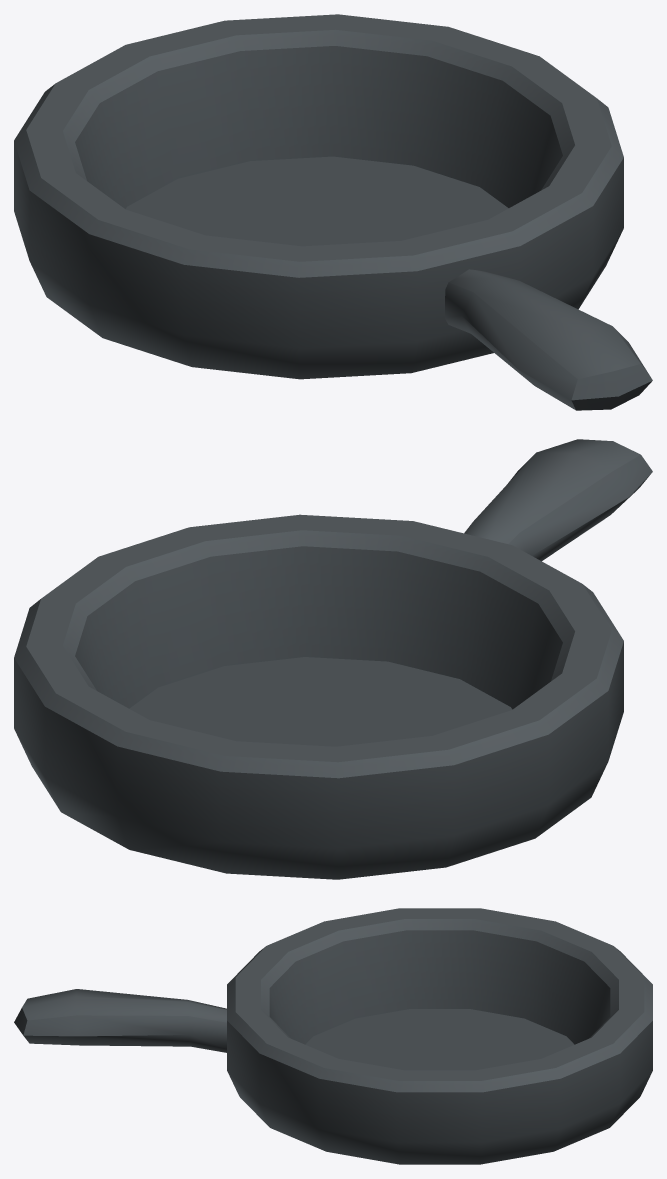
The model's file is pan_B.obj.
3 renders of one model, top to bottom at view 1: azimuth 30°, elevation 25°; view 2: azimuth 150°, elevation 25°; view 3: azimuth 270°, elevation 25°, orthographic. The views are drawn at different scales.
Parts seen in each view (by area): view 1: pan_B_Cylinder.200; view 2: pan_B_Cylinder.200; view 3: pan_B_Cylinder.200.
Boxes of the visible parts, x1,y1,x2,y2 form: pan_B_Cylinder.200: (14,14,652,410); pan_B_Cylinder.200: (14,439,652,879); pan_B_Cylinder.200: (14,908,652,1164).
Size of the model in its own units: 1 by 0.25 by 1.5.
Materials: 1 (1 with a texture image).
